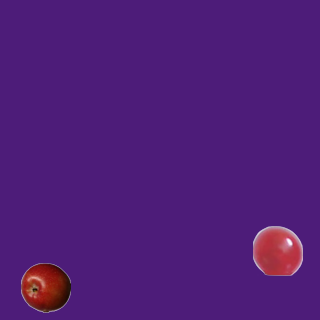Apple Braeburn: (20, 262, 70, 312)
Redcurrant: (252, 225, 302, 275)
